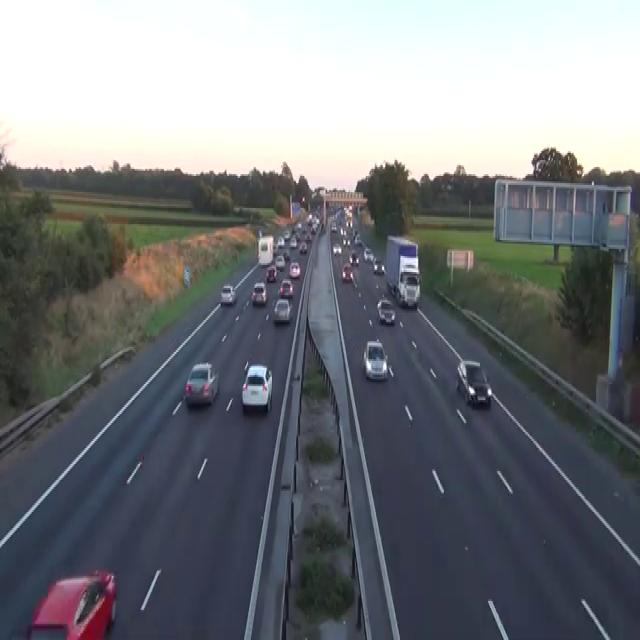Car: (24, 569, 117, 638), (456, 359, 492, 407), (183, 361, 219, 405), (241, 362, 272, 412), (363, 340, 388, 380), (396, 268, 420, 308), (377, 298, 395, 324), (273, 298, 292, 322), (220, 282, 236, 306), (251, 281, 266, 304), (279, 277, 293, 297), (341, 263, 353, 281), (373, 258, 385, 274), (265, 265, 277, 281), (289, 262, 300, 278), (275, 254, 285, 270), (363, 246, 373, 262), (349, 251, 359, 265), (299, 240, 307, 254), (332, 242, 341, 254), (277, 235, 284, 247), (289, 237, 297, 247), (283, 229, 290, 240), (233, 204, 241, 213), (354, 233, 361, 243), (283, 249, 290, 259), (330, 222, 337, 231), (307, 213, 312, 224), (257, 228, 262, 238), (273, 242, 278, 252), (352, 228, 358, 236)
Truck: (384, 233, 420, 307), (257, 235, 273, 265)
